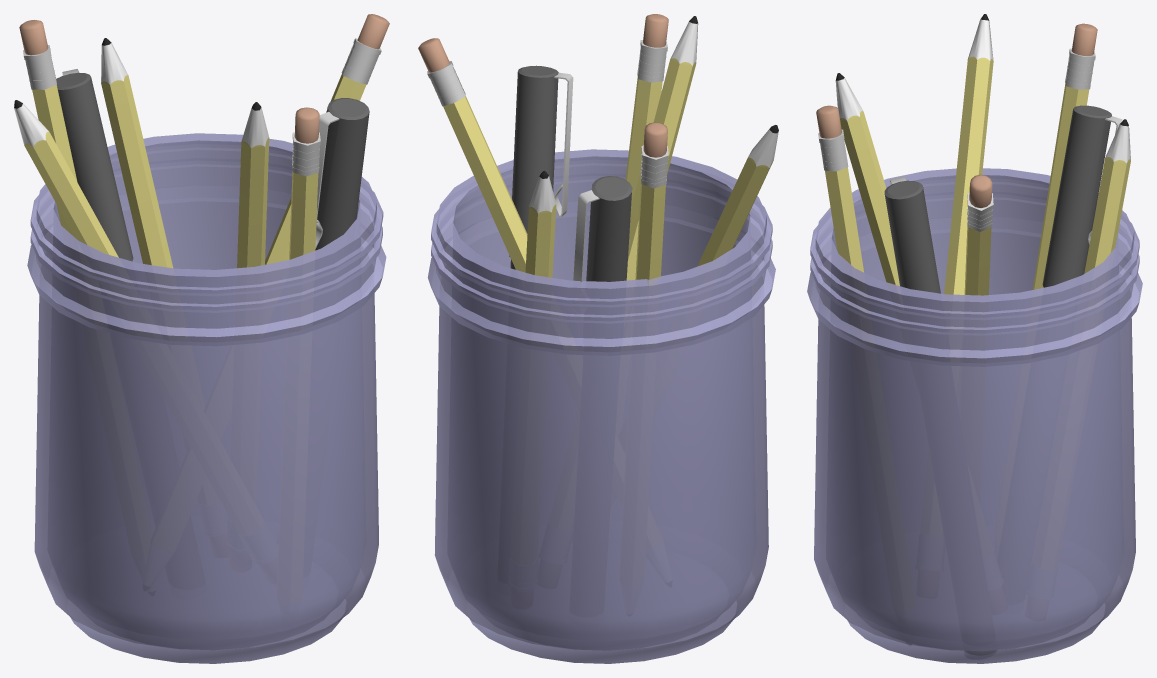
The picture shows the model from 3 angles, left to right: view 1: azimuth 30°, elevation 25°; view 2: azimuth 150°, elevation 25°; view 3: azimuth 270°, elevation 25°; orthographic projection. The views are drawn at different scales.
Visible parts, largest first — view 1: Mesh1 Group2 Group1 Model, Mesh13 Pencil6 Group1 Model, Mesh4 Pen_cap1 Group3 Group1 Model, Mesh7 Pen_cap2 Group5 Group1 Model, Mesh12 Pencil5 Group1 Model, Mesh8 Pencil1 Group1 Model, Mesh10 Pencil3 Group1 Model, Mesh11 Pencil4 Group1 Model, Mesh9 Pencil2 Group1 Model; view 2: Mesh1 Group2 Group1 Model, Mesh7 Pen_cap2 Group5 Group1 Model, Mesh9 Pencil2 Group1 Model, Mesh4 Pen_cap1 Group3 Group1 Model, Mesh11 Pencil4 Group1 Model, Mesh8 Pencil1 Group1 Model, Mesh10 Pencil3 Group1 Model, Mesh12 Pencil5 Group1 Model, Mesh13 Pencil6 Group1 Model; view 3: Mesh1 Group2 Group1 Model, Mesh4 Pen_cap1 Group3 Group1 Model, Mesh12 Pencil5 Group1 Model, Mesh8 Pencil1 Group1 Model, Mesh7 Pen_cap2 Group5 Group1 Model, Mesh11 Pencil4 Group1 Model, Mesh10 Pencil3 Group1 Model, Mesh13 Pencil6 Group1 Model, Mesh9 Pencil2 Group1 Model.
Part boxes in pixels (x1,y1,x2,y2): Mesh1 Group2 Group1 Model: [27, 133, 386, 663]; Mesh13 Pencil6 Group1 Model: [101, 38, 173, 268]; Mesh4 Pen_cap1 Group3 Group1 Model: [56, 69, 133, 261]; Mesh7 Pen_cap2 Group5 Group1 Model: [315, 98, 369, 250]; Mesh12 Pencil5 Group1 Model: [14, 100, 118, 257]; Mesh8 Pencil1 Group1 Model: [237, 102, 269, 268]; Mesh10 Pencil3 Group1 Model: [289, 107, 320, 259]; Mesh11 Pencil4 Group1 Model: [19, 20, 77, 237]; Mesh9 Pencil2 Group1 Model: [265, 14, 389, 264]; Mesh1 Group2 Group1 Model: [427, 149, 775, 663]; Mesh7 Pen_cap2 Group5 Group1 Model: [509, 65, 573, 256]; Mesh9 Pencil2 Group1 Model: [418, 38, 527, 272]; Mesh4 Pen_cap1 Group3 Group1 Model: [573, 176, 632, 288]; Mesh11 Pencil4 Group1 Model: [635, 122, 668, 287]; Mesh8 Pencil1 Group1 Model: [626, 16, 698, 280]; Mesh10 Pencil3 Group1 Model: [625, 14, 668, 207]; Mesh12 Pencil5 Group1 Model: [697, 125, 778, 266]; Mesh13 Pencil6 Group1 Model: [525, 171, 556, 277]; Mesh1 Group2 Group1 Model: [807, 168, 1142, 663]; Mesh4 Pen_cap1 Group3 Group1 Model: [1042, 105, 1122, 287]; Mesh12 Pencil5 Group1 Model: [944, 14, 993, 294]; Mesh8 Pencil1 Group1 Model: [835, 73, 899, 285]; Mesh7 Pen_cap2 Group5 Group1 Model: [884, 176, 940, 293]; Mesh11 Pencil4 Group1 Model: [1032, 23, 1097, 289]; Mesh10 Pencil3 Group1 Model: [816, 105, 863, 272]; Mesh13 Pencil6 Group1 Model: [1084, 119, 1130, 273]; Mesh9 Pencil2 Group1 Model: [964, 174, 993, 295].
Size of the model in its own units: 4.79 by 7.22 by 4.01.
